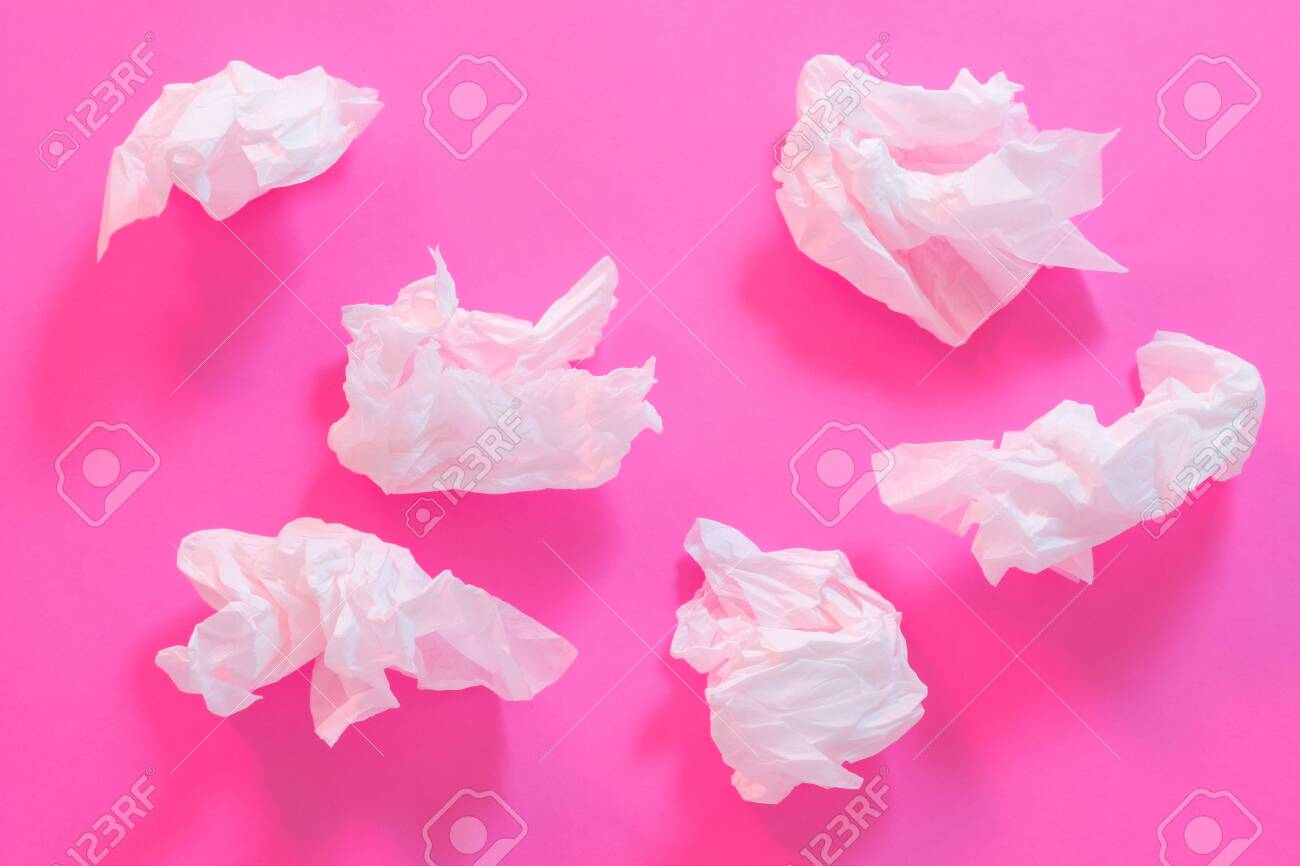Tissue: (768, 45, 1134, 354), (868, 330, 1272, 590), (150, 511, 583, 753), (313, 243, 666, 500), (661, 513, 937, 809), (92, 57, 388, 262)
